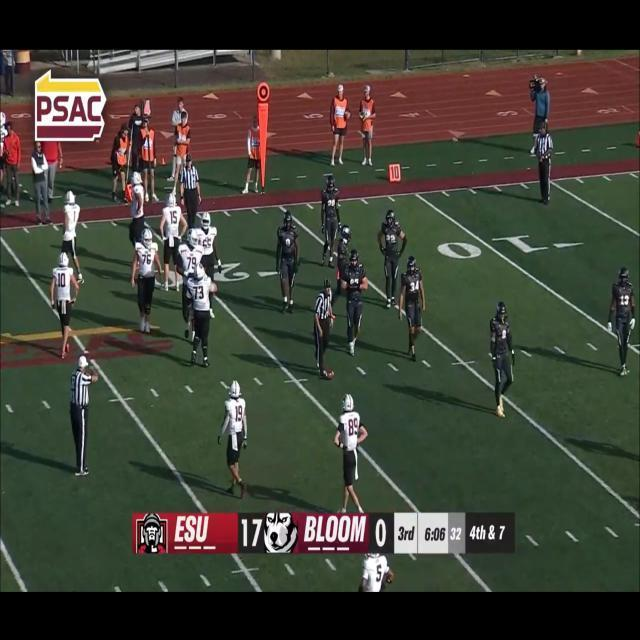football: (322, 366, 336, 382)
